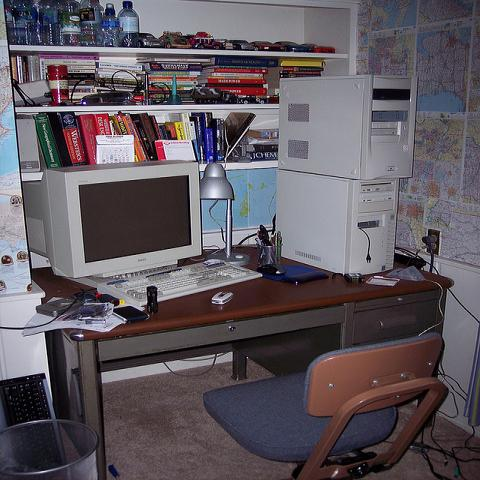car: (158, 31, 192, 48), (193, 31, 223, 48), (138, 32, 163, 47), (250, 42, 286, 52), (300, 43, 335, 53), (273, 41, 311, 50), (224, 39, 253, 50)
